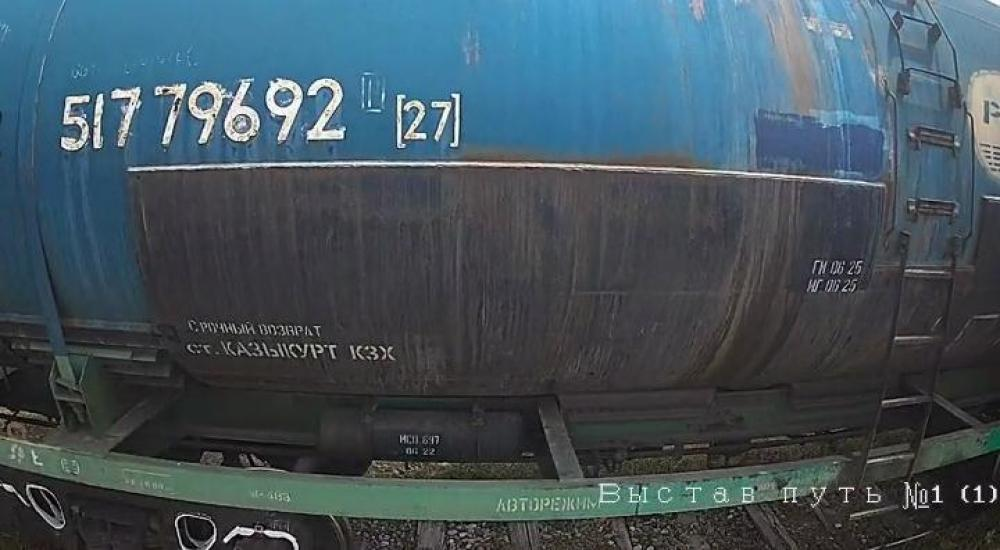Wagon-number: (56, 73, 350, 162)
